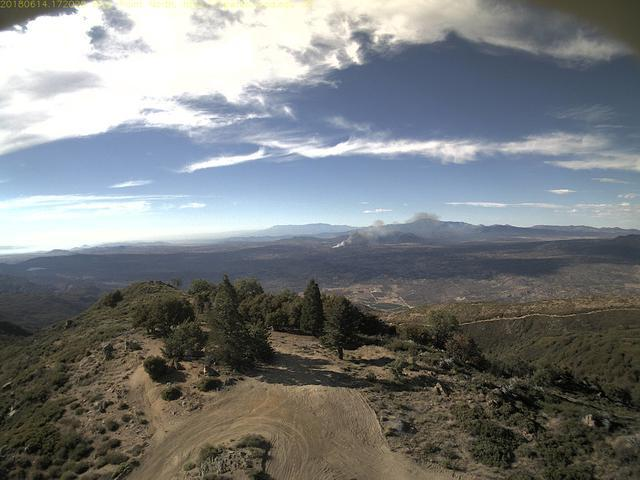smoke: (327, 206, 443, 255)
